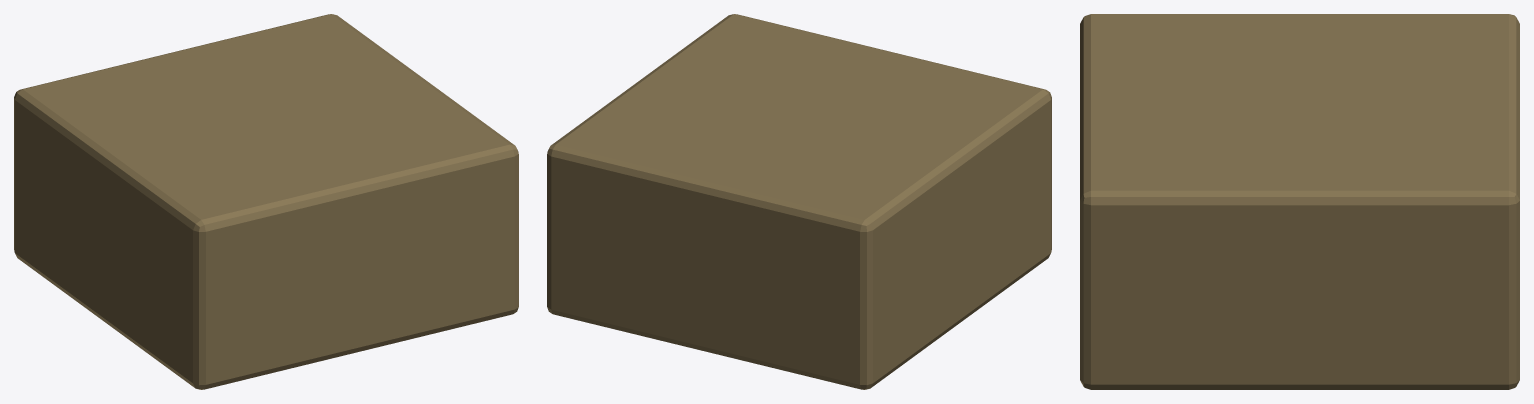
File: SM_Platform_2m_01_B.fbx
3 renders of one model, left to right at view 1: azimuth 30°, elevation 25°; view 2: azimuth 150°, elevation 25°; view 3: azimuth 270°, elevation 25°, orthographic. The views are drawn at different scales.
Visible parts, largest first — view 1: polySurface90; view 2: polySurface90; view 3: polySurface90.
Part boxes in pixels (x1,y1,x2,y2): polySurface90: (14,14,518,389); polySurface90: (547,14,1051,389); polySurface90: (1080,14,1519,389).
Bounding box in the file's own units: 200 × 100 × 200.
